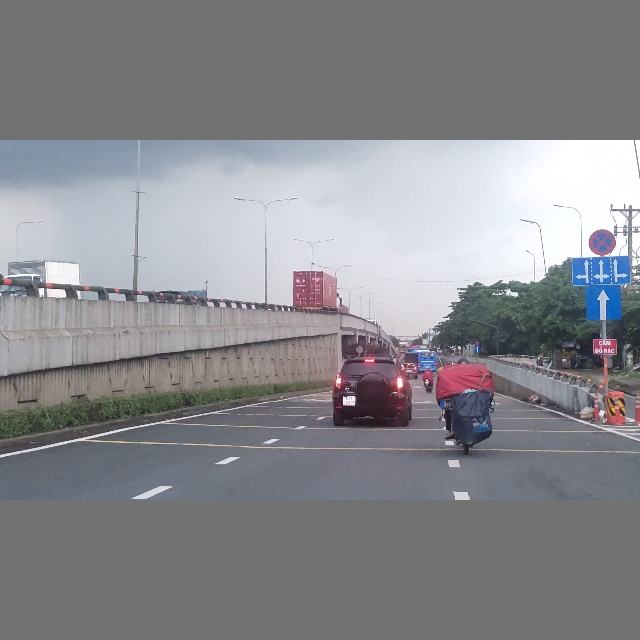I.407a: (585, 285, 624, 321), (475, 346, 481, 352)
P.130: (588, 229, 617, 256)
